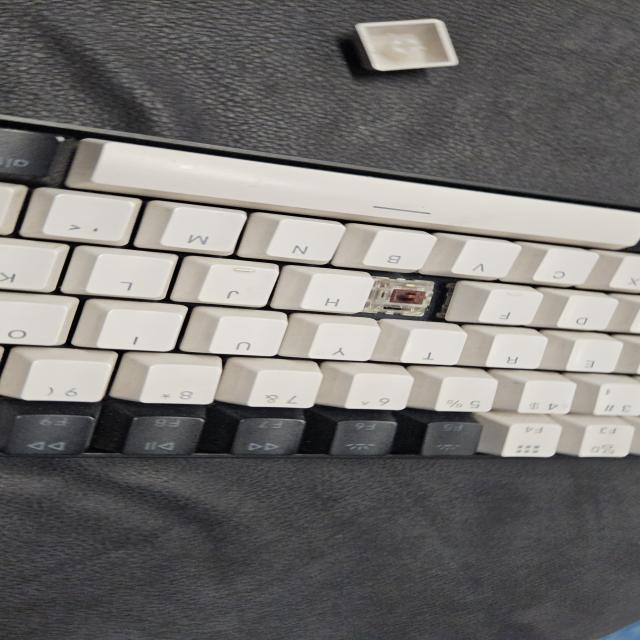C: (384, 280, 439, 312)
